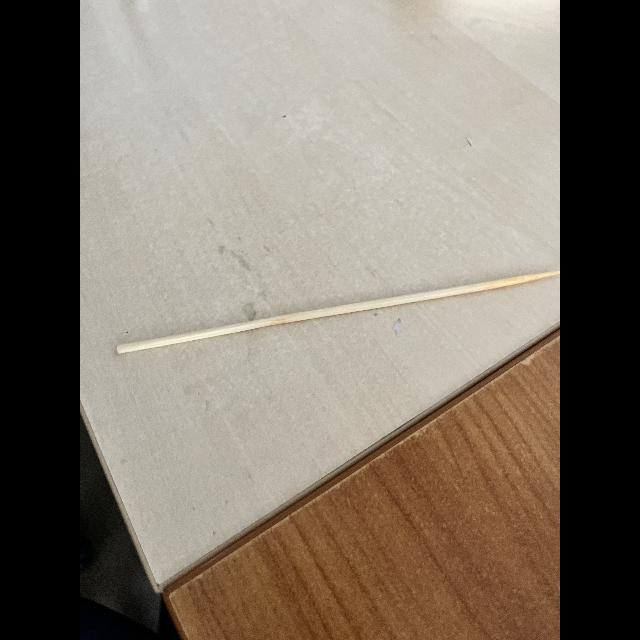stick: (104, 260, 560, 362)
